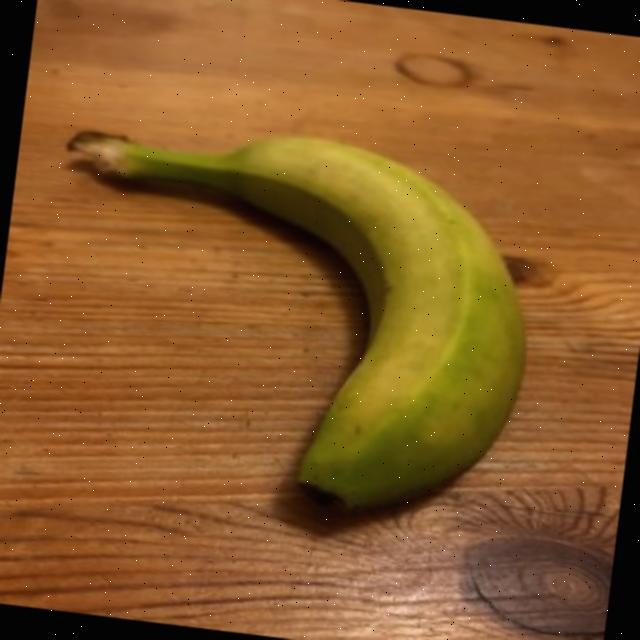Unripe: (0, 65, 583, 568)
